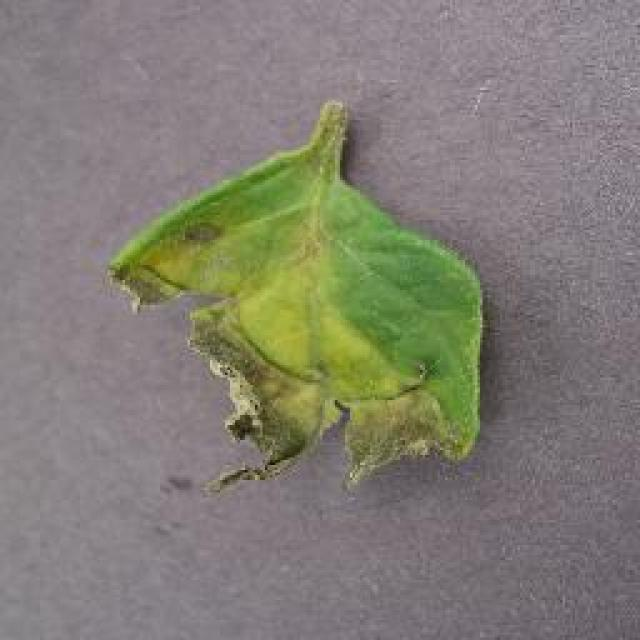Tomato late blight leaf: (107, 136, 486, 496)
